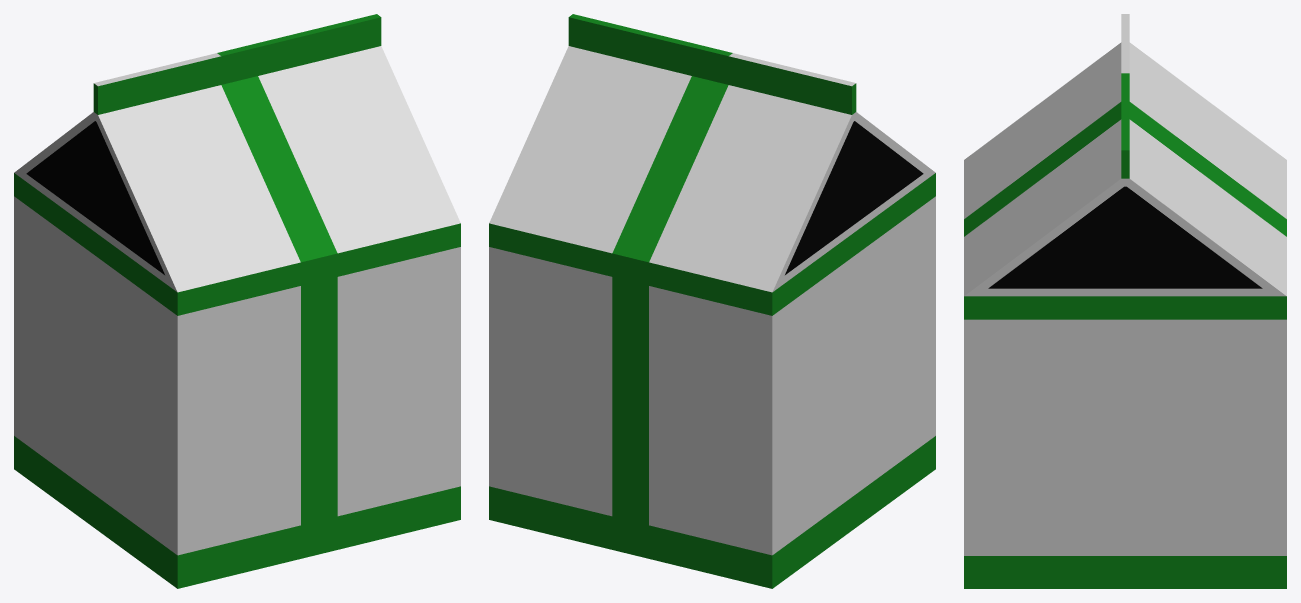
The model's file is Kucuk_SutKutusu.fbx.
3 views of the same model, side by side, from view 1: azimuth 30°, elevation 25°; view 2: azimuth 150°, elevation 25°; view 3: azimuth 270°, elevation 25° (orthographic).
Parts seen in each view (by area): view 1: Cube; view 2: Cube; view 3: Cube.
Part boxes in pixels (x1,y1,x2,y2): Cube: (14,14,460,588); Cube: (489,14,935,588); Cube: (964,14,1286,588).
Bounding box in the file's own units: 200 × 300 × 200.
